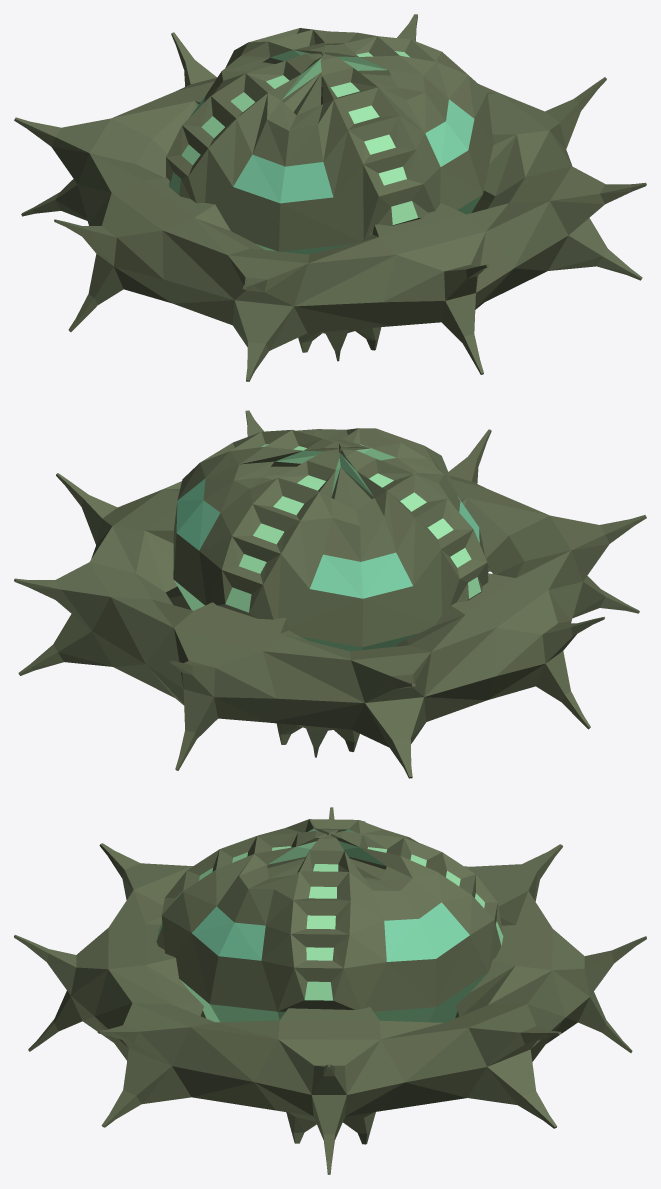
The model's file is station4.dae.
3 views of the same model, one above another, from view 1: azimuth 30°, elevation 25°; view 2: azimuth 150°, elevation 25°; view 3: azimuth 270°, elevation 25° (orthographic).
Visible parts, largest first — view 1: Torus; view 2: Torus; view 3: Torus.
Boxes of the visible parts, x1=… form: Torus: x1=14, y1=14, x2=646, y2=381; Torus: x1=14, y1=410, x2=646, y2=778; Torus: x1=14, y1=807, x2=646, y2=1174.
Size of the model in its own units: 10.72 by 10.72 by 5.56.
